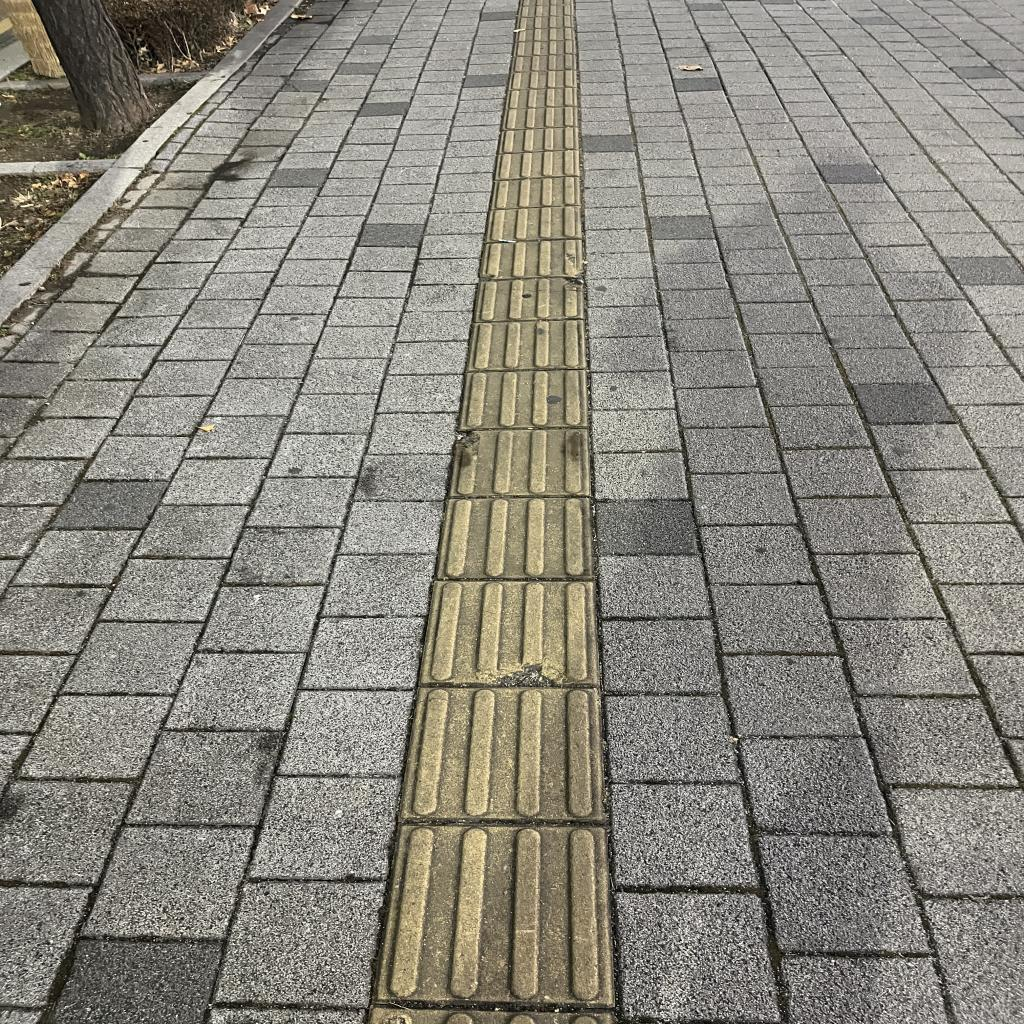Straight block broken: (421, 581, 599, 686), (450, 428, 591, 496), (473, 277, 585, 322), (479, 239, 583, 280)
Straight block normal: (379, 826, 615, 1004), (402, 689, 603, 819), (438, 497, 594, 578), (458, 369, 587, 429), (466, 320, 585, 371)
